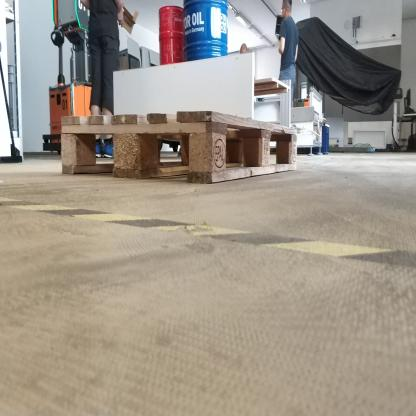BoxFace: (58, 106, 298, 187)
